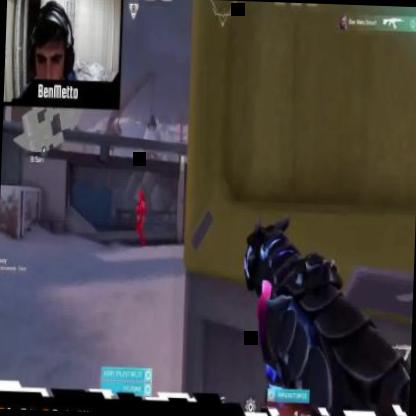enemy: (134, 189, 149, 246)
enemy_head: (139, 190, 144, 200)
